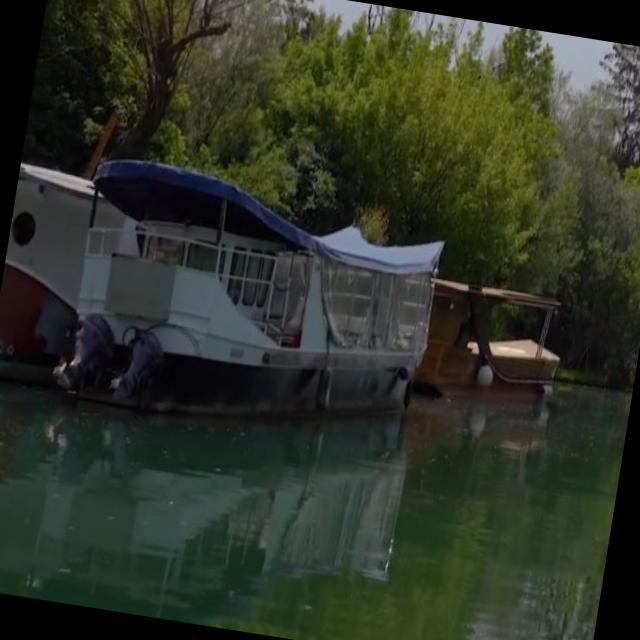boat: (55, 157, 461, 456)
